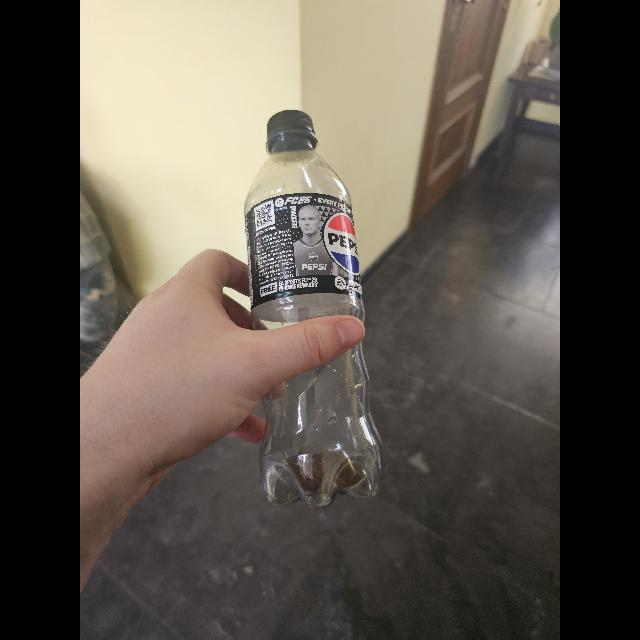Plastic: (241, 108, 393, 506)
